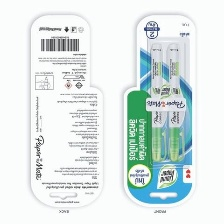book: (121, 13, 199, 209), (29, 14, 104, 207)
correction_fluid: (164, 41, 187, 163), (148, 41, 169, 163)
